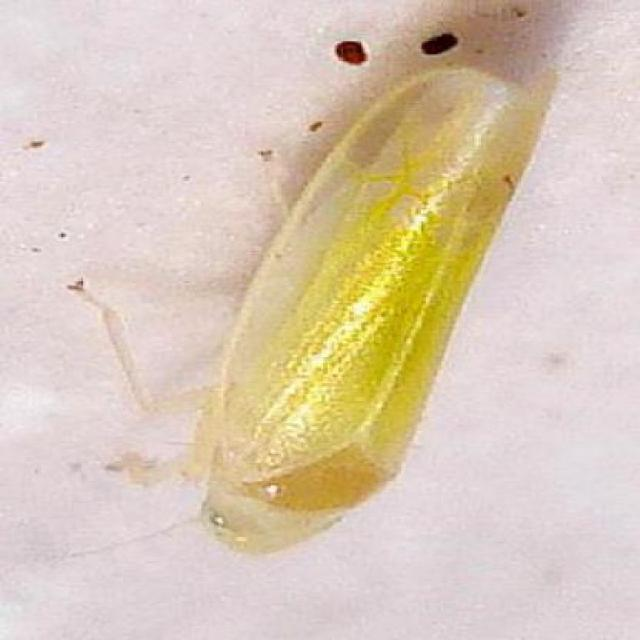green-leafhopper: (151, 71, 557, 558)
